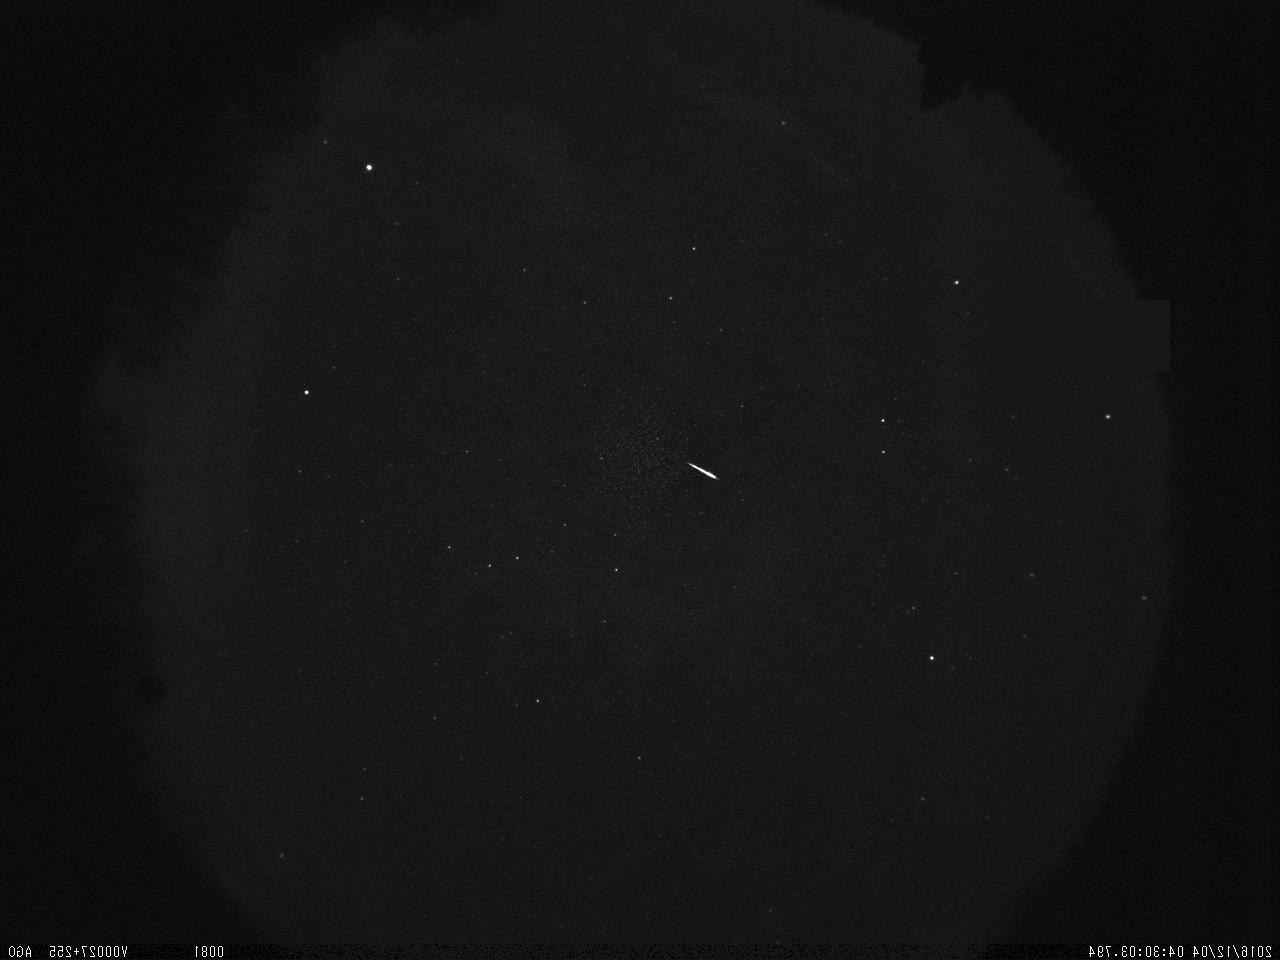meteor: (677, 454, 736, 493)
